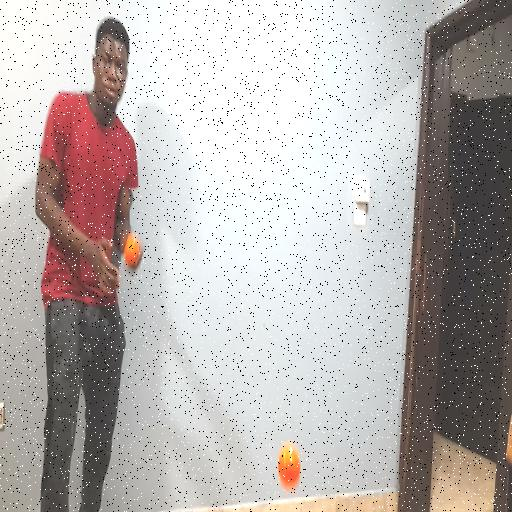plastic-ball: (273, 435, 304, 499)
